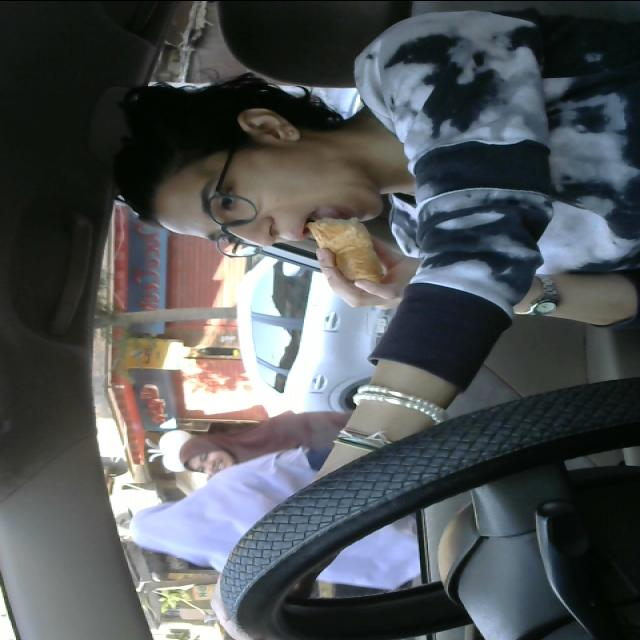eating: (284, 216, 418, 296)
